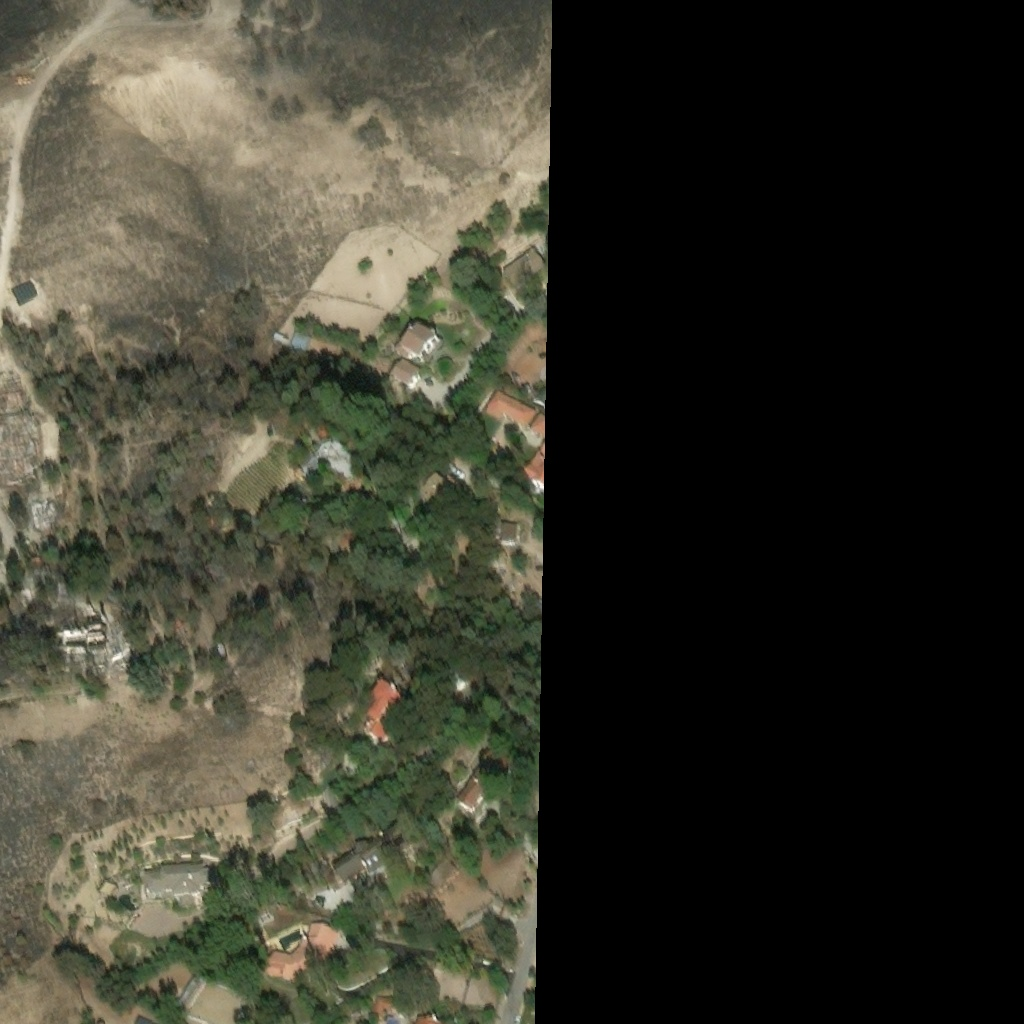0 no-damage: (332, 826, 414, 887), (262, 920, 338, 981), (453, 749, 521, 816), (142, 862, 221, 909), (359, 683, 413, 746), (483, 389, 538, 429), (502, 243, 545, 287), (413, 470, 452, 510), (401, 320, 439, 361), (463, 975, 497, 1007), (437, 968, 471, 1000), (426, 858, 457, 890), (176, 974, 203, 1008), (392, 359, 421, 388), (370, 994, 394, 1015), (286, 326, 308, 346), (498, 523, 518, 543), (403, 537, 422, 557), (414, 1014, 451, 1023), (97, 876, 116, 893), (133, 1013, 160, 1023), (271, 324, 287, 339)
3 destroyed: (0, 379, 36, 480), (297, 441, 362, 481), (29, 555, 66, 591), (64, 629, 109, 656), (31, 497, 55, 519), (86, 606, 105, 630)
4 un-classified: (399, 671, 419, 687), (203, 501, 217, 522), (339, 533, 357, 545)
